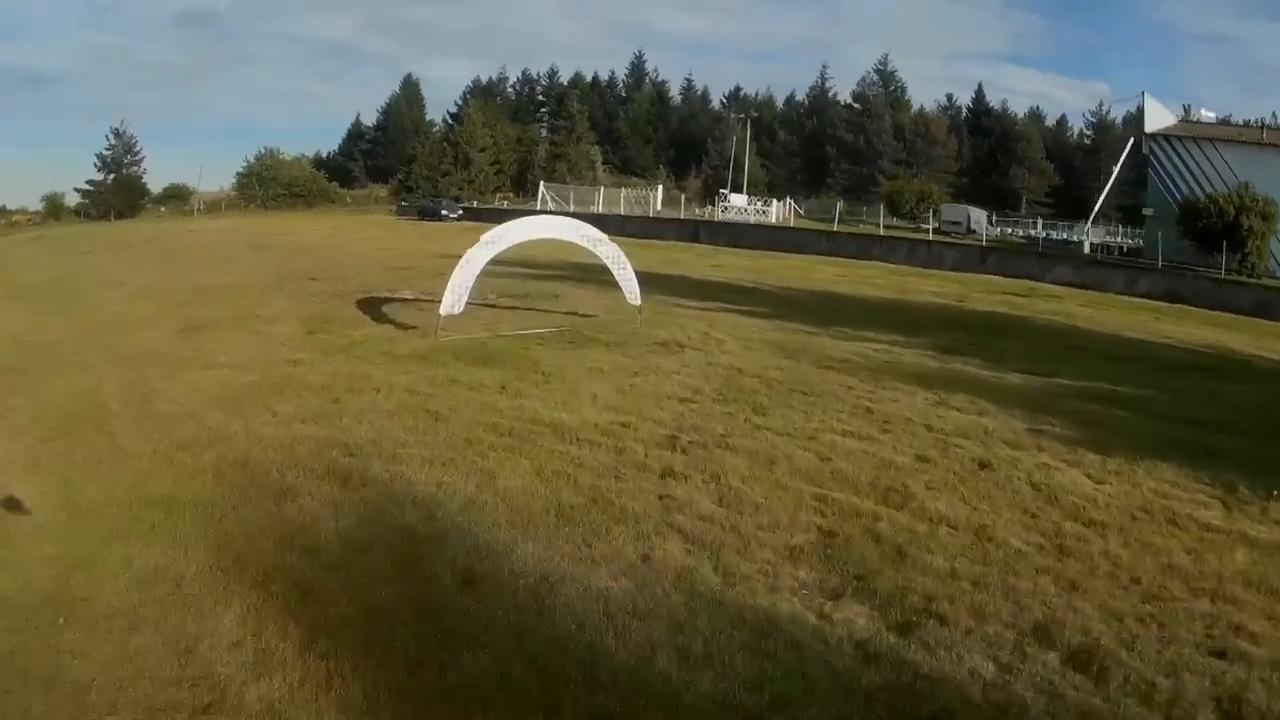gate: (436, 212, 641, 318)
